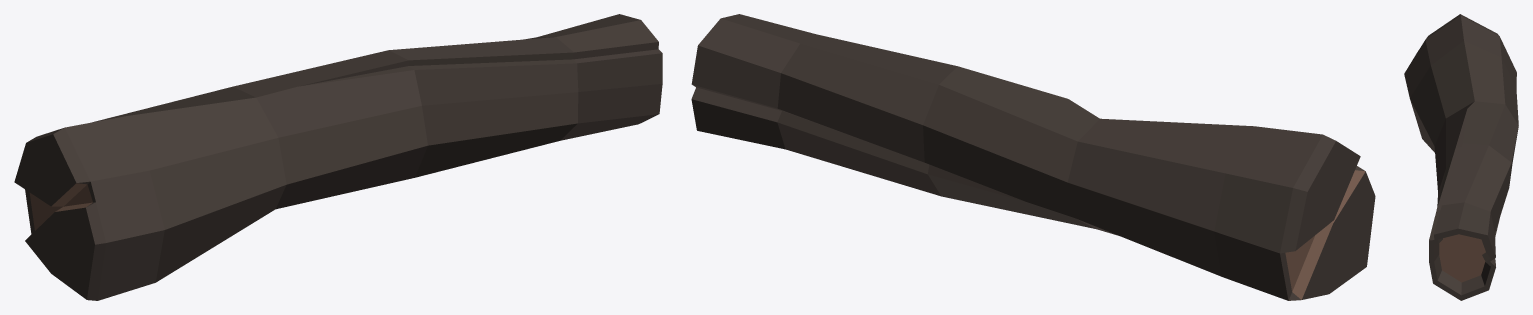
File: SM_Treetrunk_02.fbx
The picture shows the model from 3 angles, left to right: view 1: azimuth 30°, elevation 25°; view 2: azimuth 150°, elevation 25°; view 3: azimuth 270°, elevation 25°; orthographic projection. The views are drawn at different scales.
Visible parts, largest first — view 1: SM_Treetrunk_02; view 2: SM_Treetrunk_02; view 3: SM_Treetrunk_02.
Boxes of the visible parts, box(x1,y1,x2,y2) form: SM_Treetrunk_02: box(14, 14, 662, 300); SM_Treetrunk_02: box(691, 14, 1375, 300); SM_Treetrunk_02: box(1404, 14, 1518, 300).
Bounding box in the file's own units: 919 × 224 × 228.
